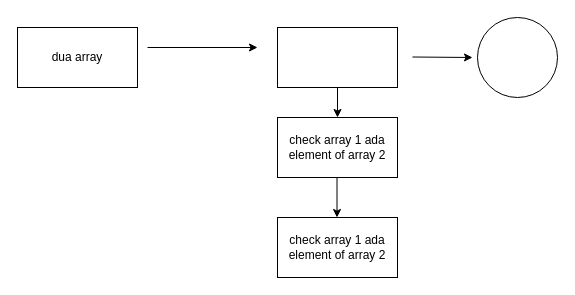
Image size: 575x295. Some labels were removed from this diagram. Each missing label, with the centre of its shape:
end result remove element berulang: (x=517, y=57)
function: (x=337, y=57)
